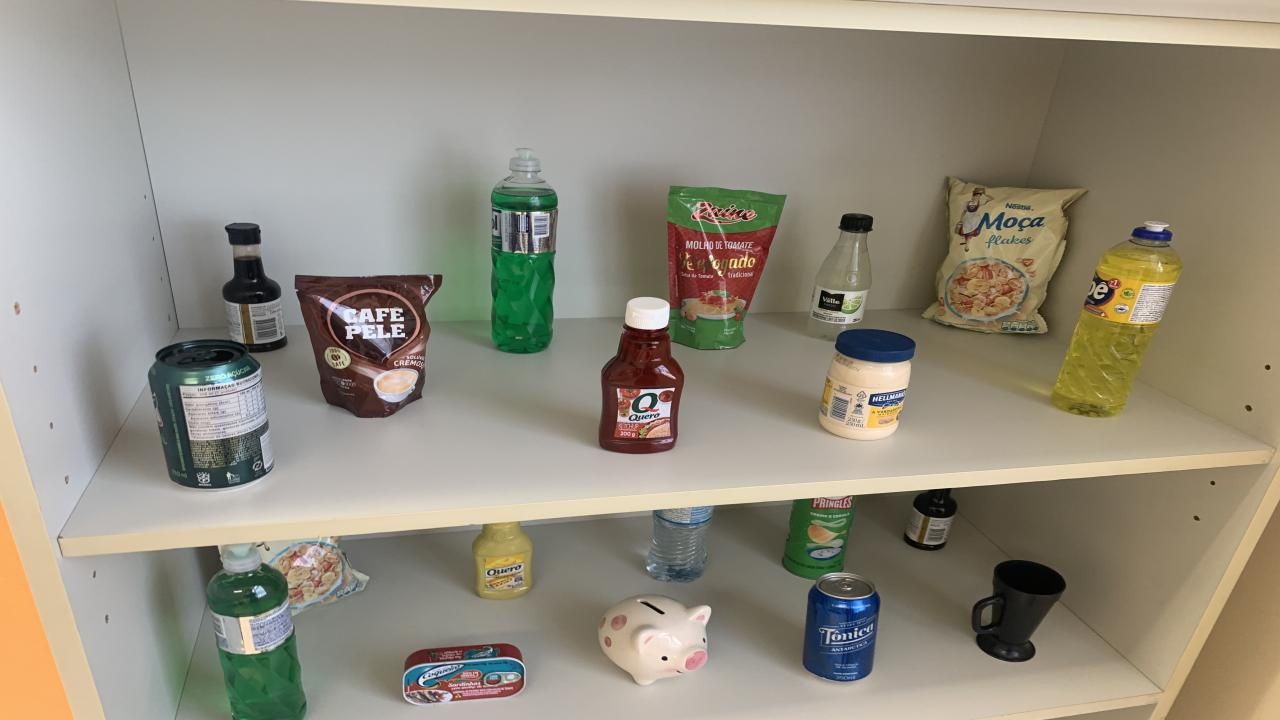Coffee-Pantry_Items: (295, 276, 442, 418)
Detergent-Cleanup_Items: (1052, 225, 1182, 416), (208, 544, 305, 720), (490, 148, 558, 352)
English_Sauce-Pantry_Items: (222, 223, 288, 352), (905, 489, 958, 551)
Flakes-Snacks: (922, 178, 1085, 334), (258, 536, 370, 615)
Guarana_Can-Drinks: (148, 339, 272, 491)
Ketchup-Pantry_Items: (600, 296, 682, 454)
Mayonnaise-Pantry_Items: (820, 330, 915, 441)
Mustard-Pantry_Items: (472, 521, 532, 600)
Pig_Safe-Miscellaneous: (598, 594, 710, 684)
Pringles-Snacks: (782, 495, 855, 579)
Soda-Drinks: (808, 214, 872, 339)
Tomato_Sauce-Pantry_Items: (668, 186, 785, 349)
Tonic-Drinks: (802, 572, 880, 681)
Tuna_Can-Pantry_Items: (402, 643, 525, 705)
Water_Bottle-Drinks: (648, 506, 712, 583)
